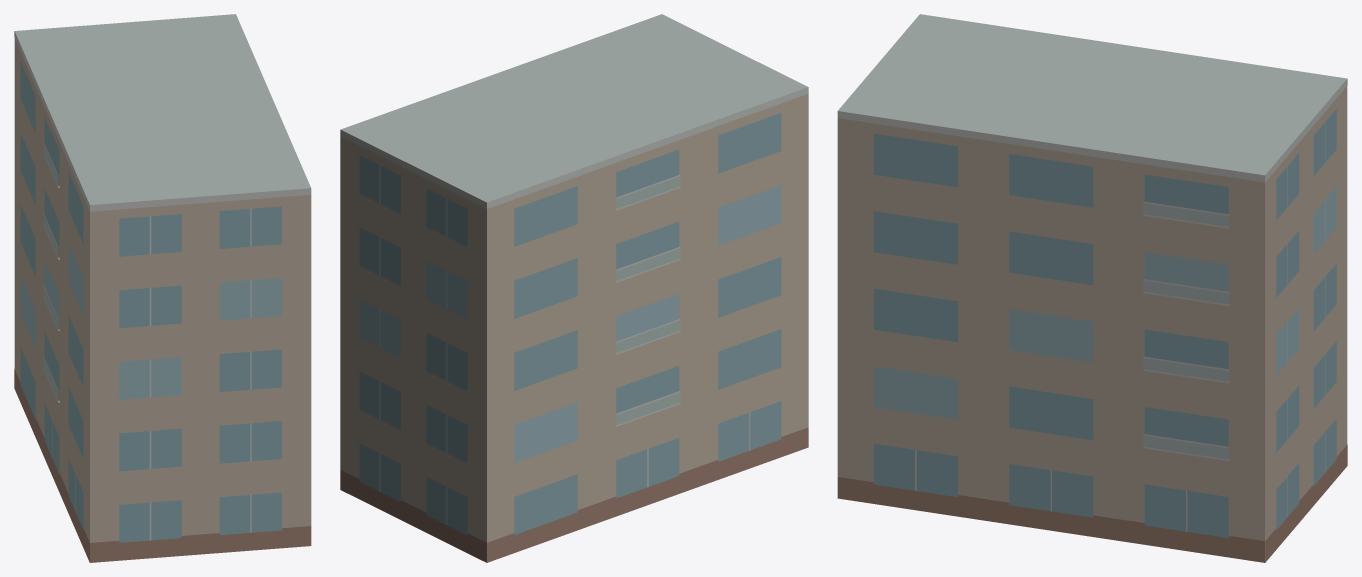
Rendered from survey-upis-32931659.glb.
3 renders of one model, left to right at view 1: azimuth 30°, elevation 25°; view 2: azimuth 150°, elevation 25°; view 3: azimuth 270°, elevation 25°, orthographic. The views are drawn at different scales.
Parts seen in each view (by area): view 1: survey-upis-32931659.tmp; view 2: survey-upis-32931659.tmp; view 3: survey-upis-32931659.tmp.
Part boxes in pixels (<box>): survey-upis-32931659.tmp: <box>14,14,311,562</box>; survey-upis-32931659.tmp: <box>340,14,808,562</box>; survey-upis-32931659.tmp: <box>837,14,1347,562</box>.
Bounding box in the file's own units: 11.89 × 13.3 × 15.87.
